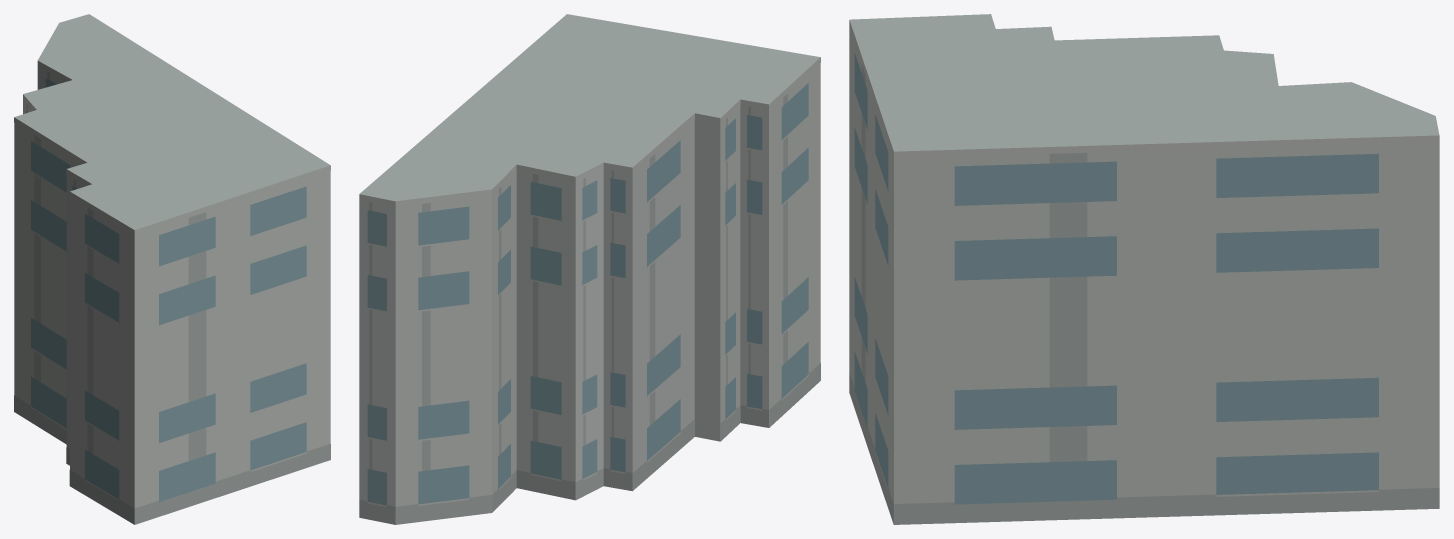
The model's file is survey-upis-32631401.glb.
The picture shows the model from 3 angles, left to right: view 1: azimuth 30°, elevation 25°; view 2: azimuth 150°, elevation 25°; view 3: azimuth 270°, elevation 25°; orthographic projection. The views are drawn at different scales.
Parts seen in each view (by area): view 1: survey-upis-32631401.tmp; view 2: survey-upis-32631401.tmp; view 3: survey-upis-32631401.tmp.
Boxes of the visible parts, bbox=[...] form: survey-upis-32631401.tmp: bbox=[14, 14, 330, 524]; survey-upis-32631401.tmp: bbox=[359, 14, 820, 524]; survey-upis-32631401.tmp: bbox=[849, 14, 1439, 524].
Size of the model in its own units: 10.44 by 13.2 by 18.92.
